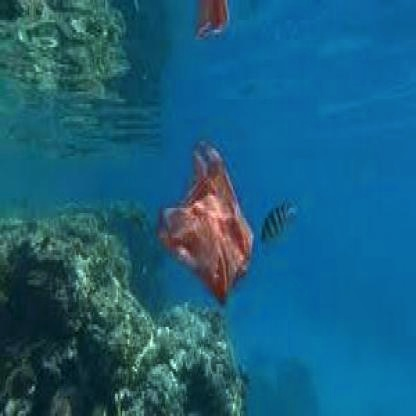pbag: (151, 134, 261, 314)
